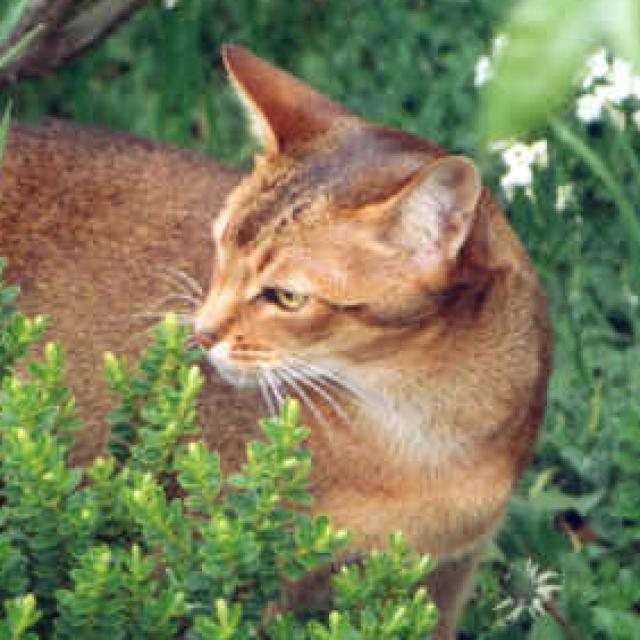Abyssinian: (0, 36, 556, 640)
